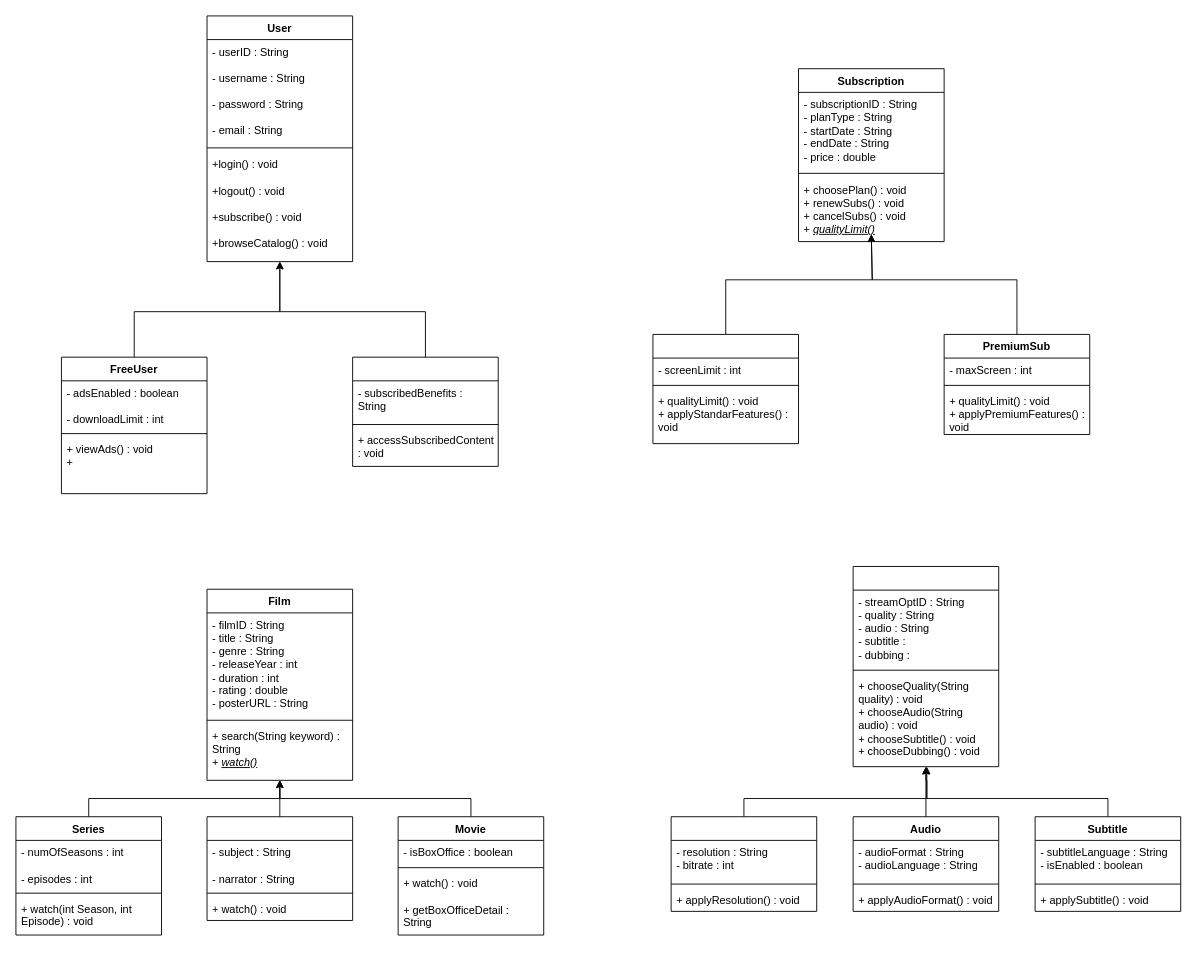
Image size: 1197x954. Some labels were removed from this diagram. The box of each missing label's shape, as (x1, y1, x2, y2) in pixels:
Documentary: (206, 816, 353, 920)
Quality: (670, 816, 817, 911)
StandardSub: (652, 334, 799, 444)
StreamingOption: (852, 566, 999, 767)
SubscribedUser: (352, 356, 498, 466)
